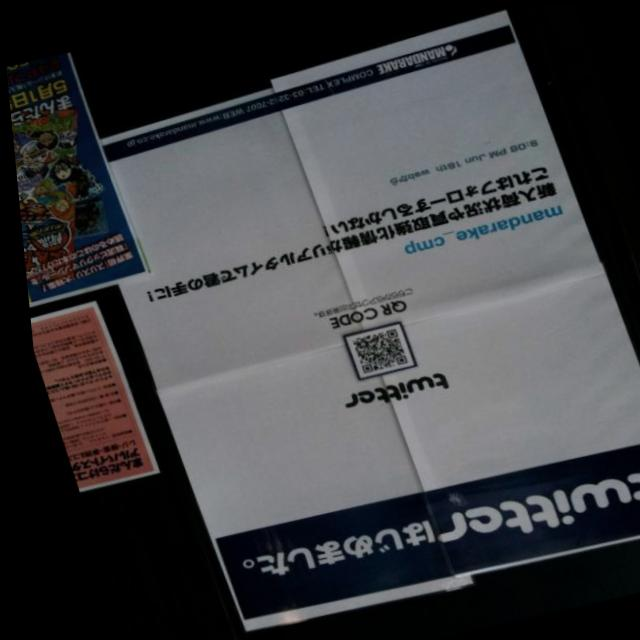qrcode: (344, 328, 402, 373)
